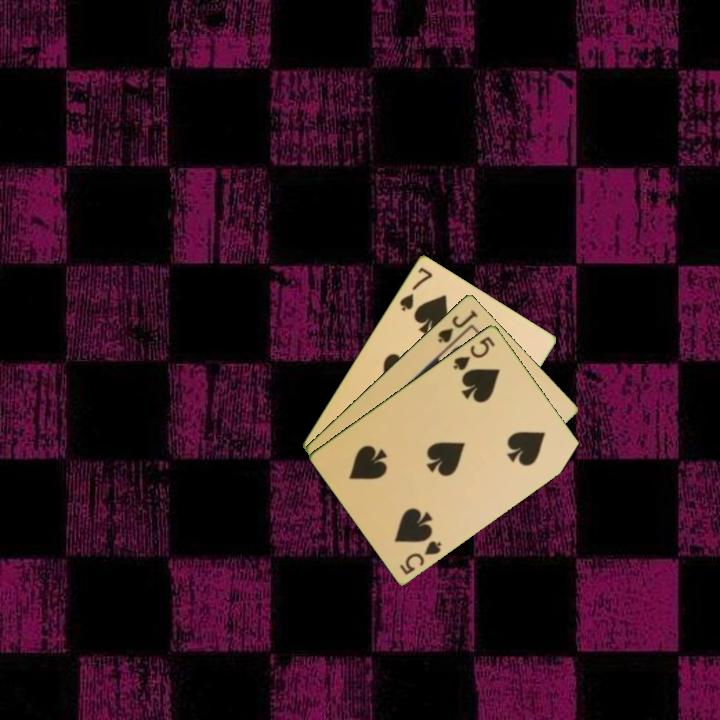5s: (449, 332, 498, 373), (396, 537, 445, 577)
7s: (396, 263, 436, 314)
Js: (434, 306, 481, 346)
